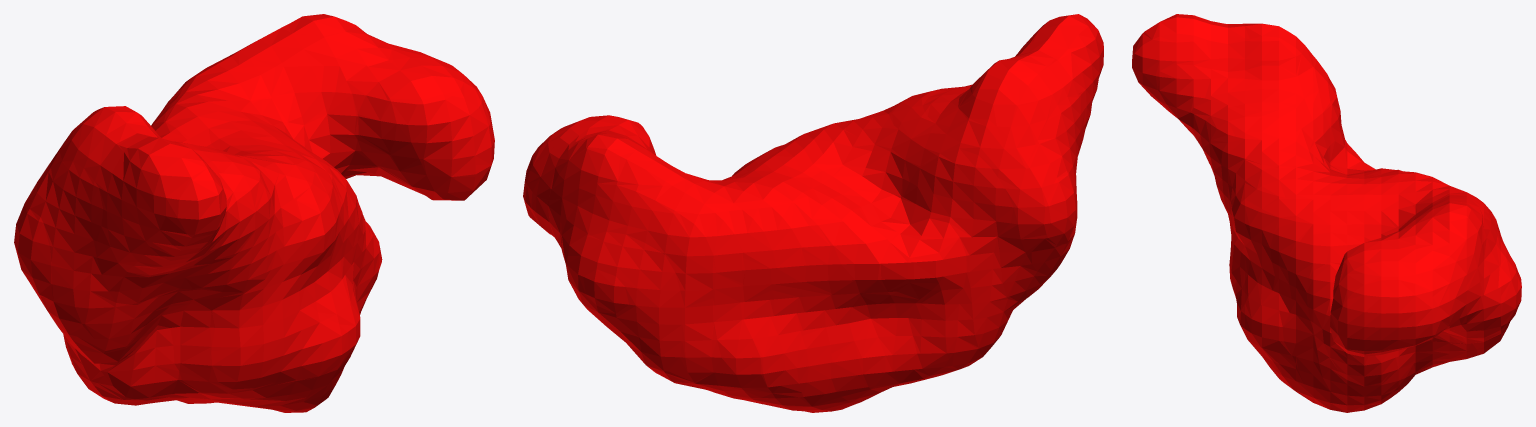
The model's file is glnB_coarse.dae.
The picture shows the model from 3 angles, left to right: view 1: azimuth 30°, elevation 25°; view 2: azimuth 150°, elevation 25°; view 3: azimuth 270°, elevation 25°; orthographic projection. The views are drawn at different scales.
Parts seen in each view (by area): view 1: glnB; view 2: glnB; view 3: glnB.
Part boxes in pixels (x1,y1,x2,y2): glnB: [14, 14, 494, 412]; glnB: [523, 14, 1103, 412]; glnB: [1132, 14, 1521, 412].
Bounding box in the file's own units: 56.37 × 40.6 × 47.13.
